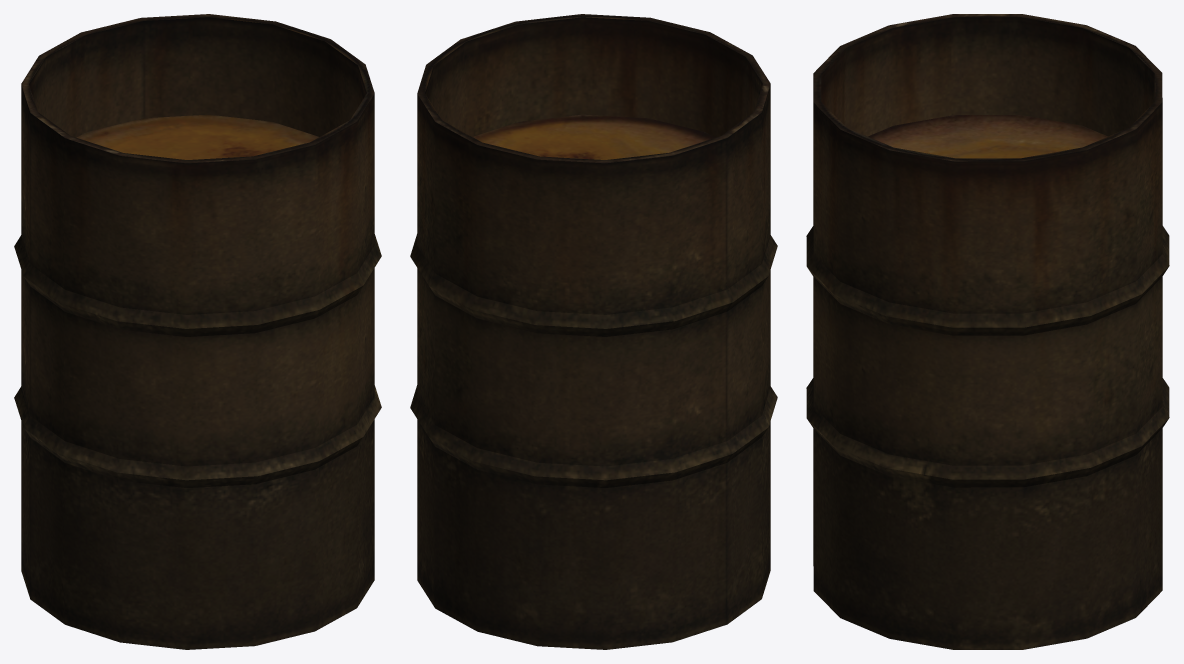
File: metal_barrel_hr_3.obj
The picture shows the model from 3 angles, left to right: view 1: azimuth 30°, elevation 25°; view 2: azimuth 150°, elevation 25°; view 3: azimuth 270°, elevation 25°; orthographic projection.
Visible parts, largest first — view 1: metal_barrel_hr_3; view 2: metal_barrel_hr_3; view 3: metal_barrel_hr_3.
Part boxes in pixels (x1,y1,x2,y2): metal_barrel_hr_3: (14, 14, 381, 649); metal_barrel_hr_3: (410, 14, 777, 649); metal_barrel_hr_3: (806, 14, 1169, 649).
Size of the model in its own units: 0.6735 by 1 by 0.6735.
